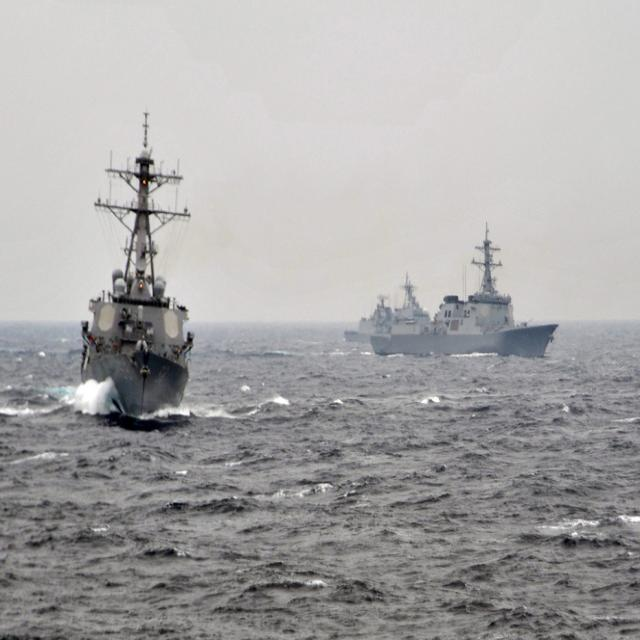navalvessels: (62, 110, 230, 444), (340, 214, 564, 367)
